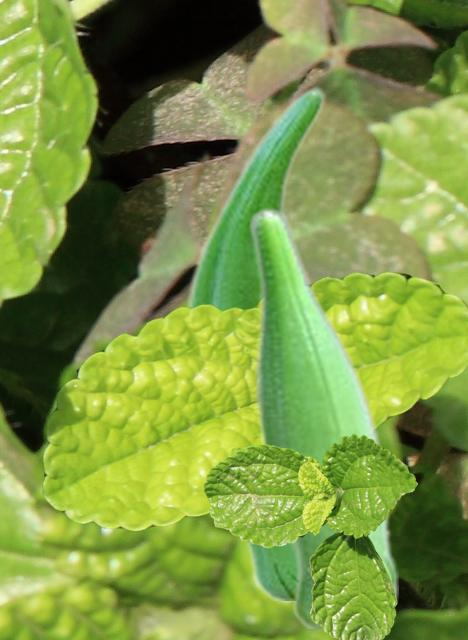okra: (181, 83, 331, 599), (247, 207, 397, 627)
